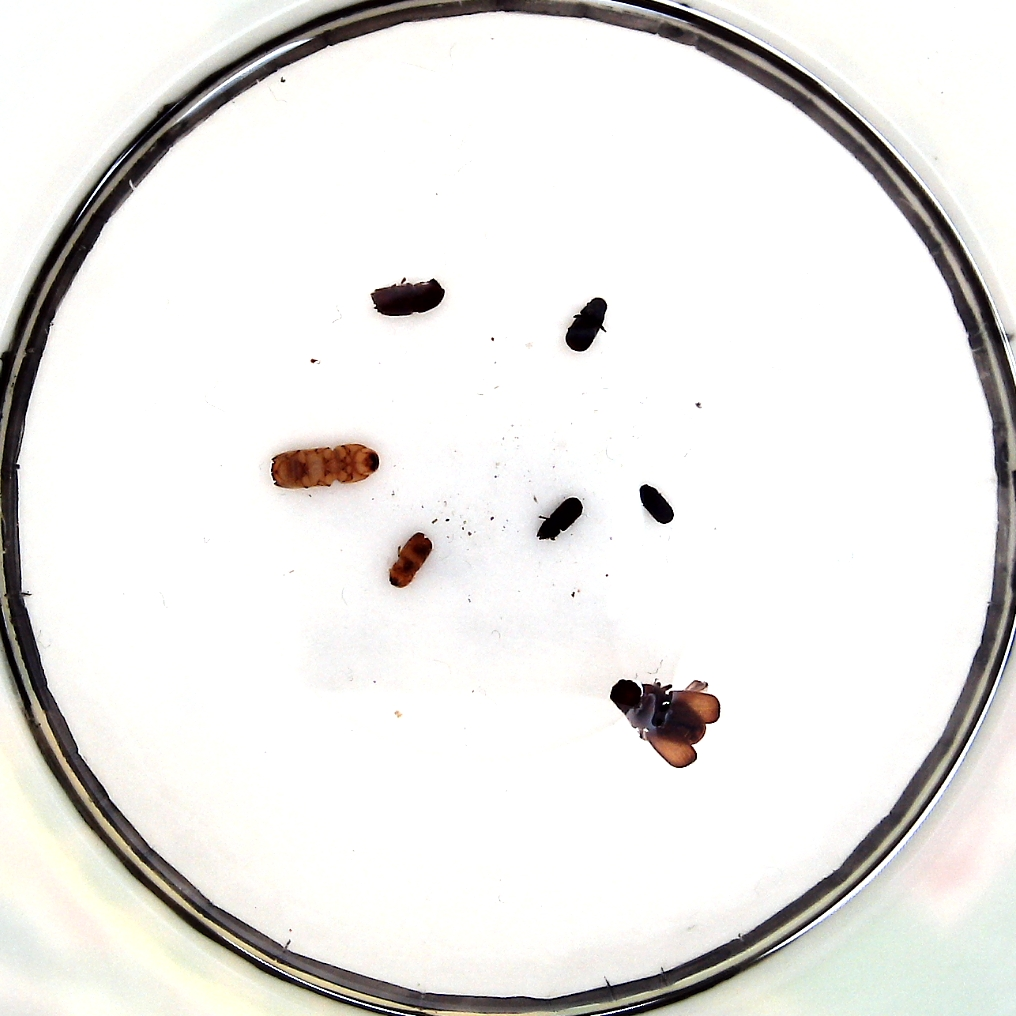Boerner: (271, 444, 379, 489)
Leconte: (611, 674, 721, 768)
Linnaeus: (372, 277, 445, 317)
acuminatus: (387, 535, 430, 586)
armandi: (565, 296, 609, 350)
coleoptera: (539, 495, 578, 540), (635, 483, 675, 526)
